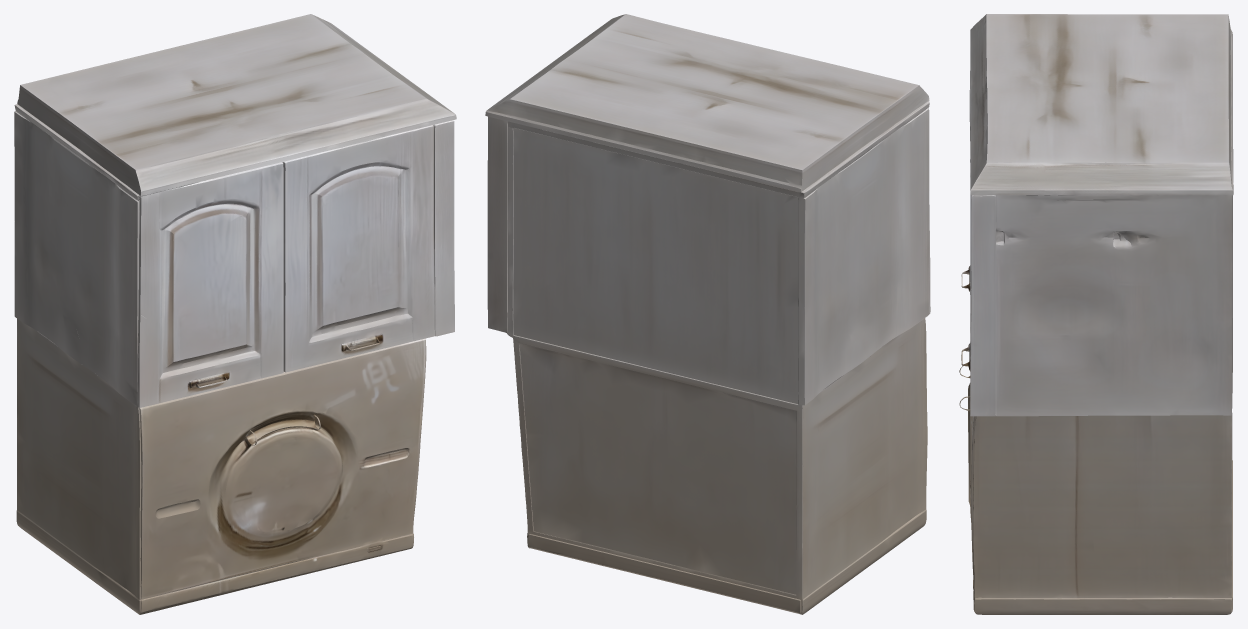
Rendered from cleaner-bottle.glb.
The picture shows the model from 3 angles, left to right: view 1: azimuth 30°, elevation 25°; view 2: azimuth 150°, elevation 25°; view 3: azimuth 270°, elevation 25°; orthographic projection. The views are drawn at different scales.
Parts seen in each view (by area): view 1: model; view 2: model; view 3: model.
Boxes of the visible parts, x1,y1,x2,y2 form: model: [14, 14, 456, 614]; model: [485, 14, 930, 614]; model: [959, 14, 1233, 614].
Size of the model in its own units: 1.42 by 1.89 by 1.01.
Materials: 1 (1 with a texture image).
